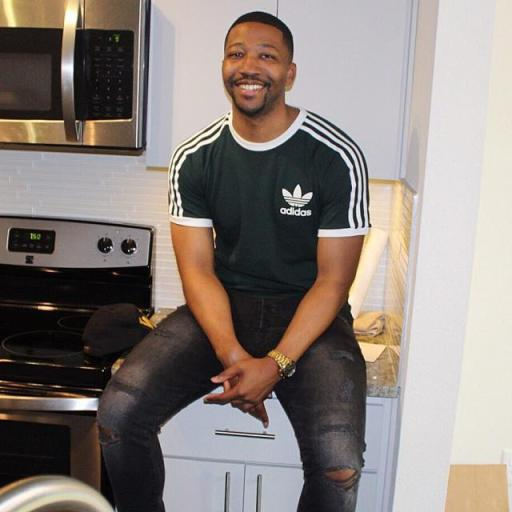Adidas: (276, 182, 316, 219)
